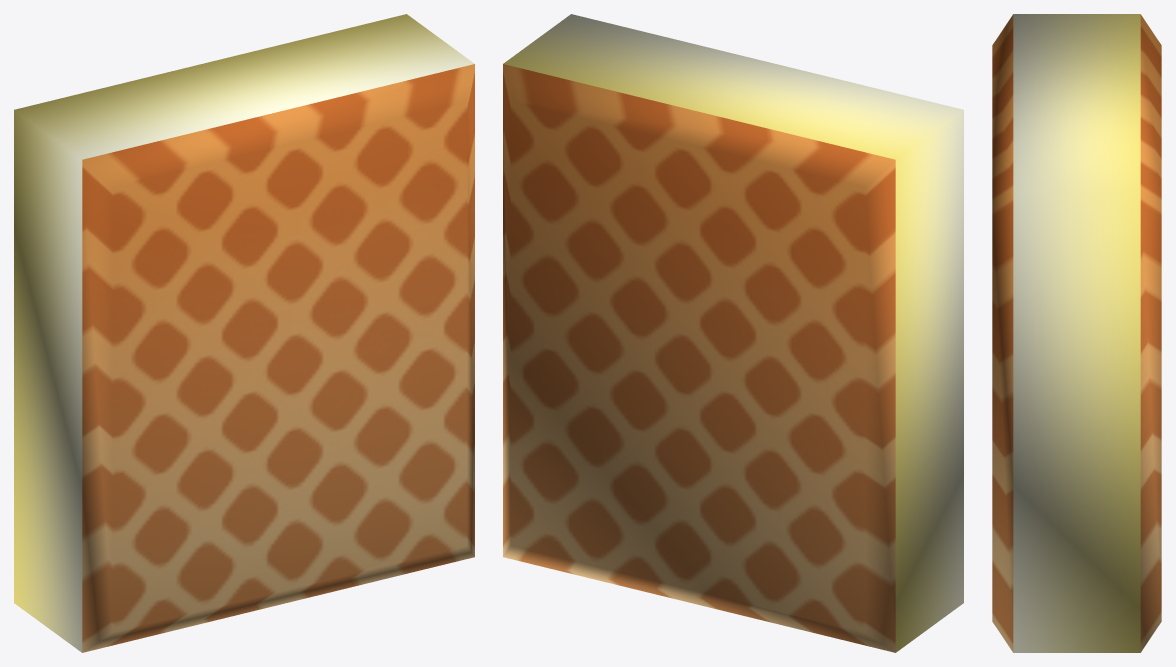
The model's file is m_SandwichIceCream02.fbx.
3 views of the same model, side by side, from view 1: azimuth 30°, elevation 25°; view 2: azimuth 150°, elevation 25°; view 3: azimuth 270°, elevation 25° (orthographic). The views are drawn at different scales.
Visible parts, largest first — view 1: m_SandwichIceCream02; view 2: m_SandwichIceCream02; view 3: m_SandwichIceCream02.
Part boxes in pixels (x1=…): m_SandwichIceCream02: x1=14, y1=14, x2=474, y2=652; m_SandwichIceCream02: x1=503, y1=14, x2=963, y2=652; m_SandwichIceCream02: x1=992, y1=14, x2=1161, y2=652.
Size of the model in its own units: 10 by 12 by 4.
